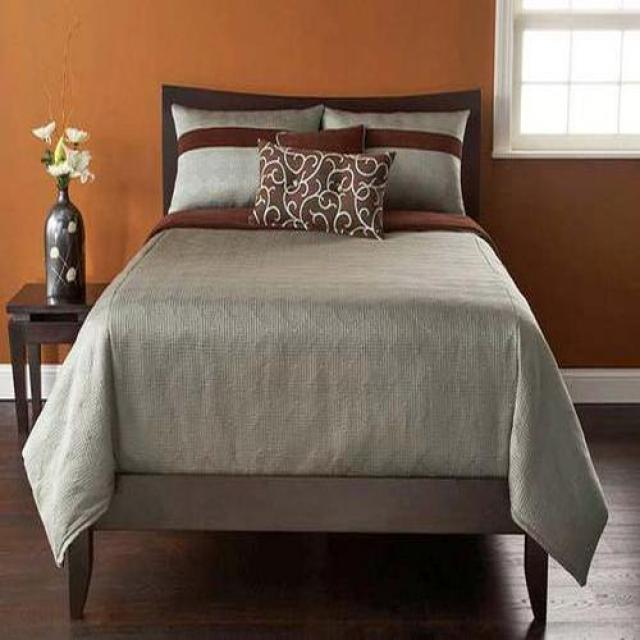bed: (23, 86, 611, 640)
